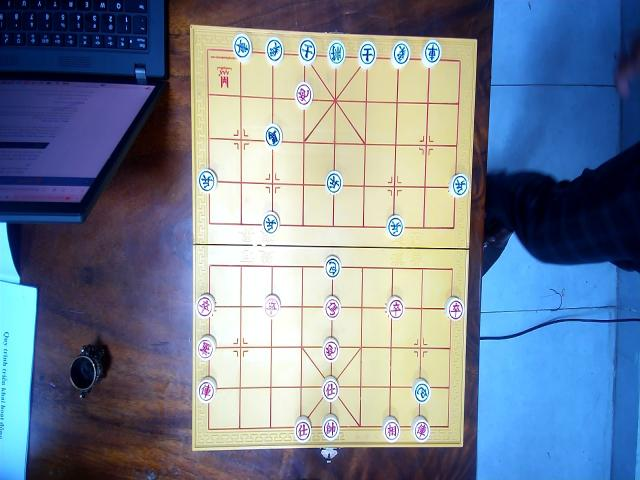piece: (421, 39, 442, 68), (448, 171, 469, 199), (390, 39, 410, 68), (232, 32, 252, 61), (326, 39, 346, 67), (196, 377, 216, 404), (196, 334, 216, 361), (410, 415, 430, 442), (358, 40, 378, 67), (294, 81, 313, 109), (294, 415, 312, 444), (195, 292, 215, 318), (444, 295, 464, 321), (411, 378, 431, 404), (381, 415, 400, 442), (265, 36, 283, 64), (322, 295, 342, 320), (197, 167, 217, 192), (322, 337, 340, 364), (298, 37, 316, 64), (264, 123, 282, 150), (322, 415, 340, 441), (386, 214, 404, 239), (324, 170, 342, 195), (322, 376, 339, 402), (386, 295, 404, 319), (262, 211, 280, 235), (324, 254, 341, 278), (264, 293, 280, 318)
